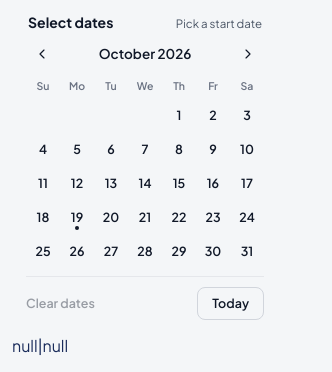
DateCalendar range › gives a one-day range when the same day is clicked twice
The width and height of the screenshot is (332, 372).
Click the button "15". click: (179, 183)
box: left=162, top=166, right=196, bottom=200
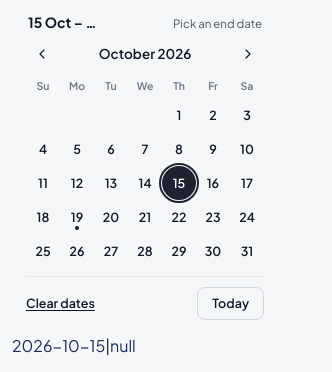
Click the button "15". click: (179, 183)
box: left=162, top=166, right=196, bottom=200
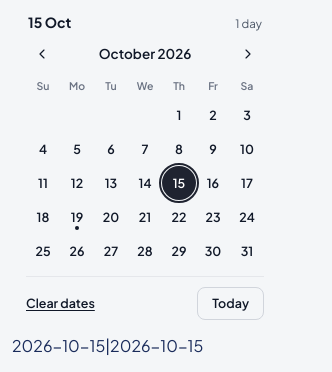
Now the text "1 day" is shown, box left=235, top=15, right=262, bottom=32
